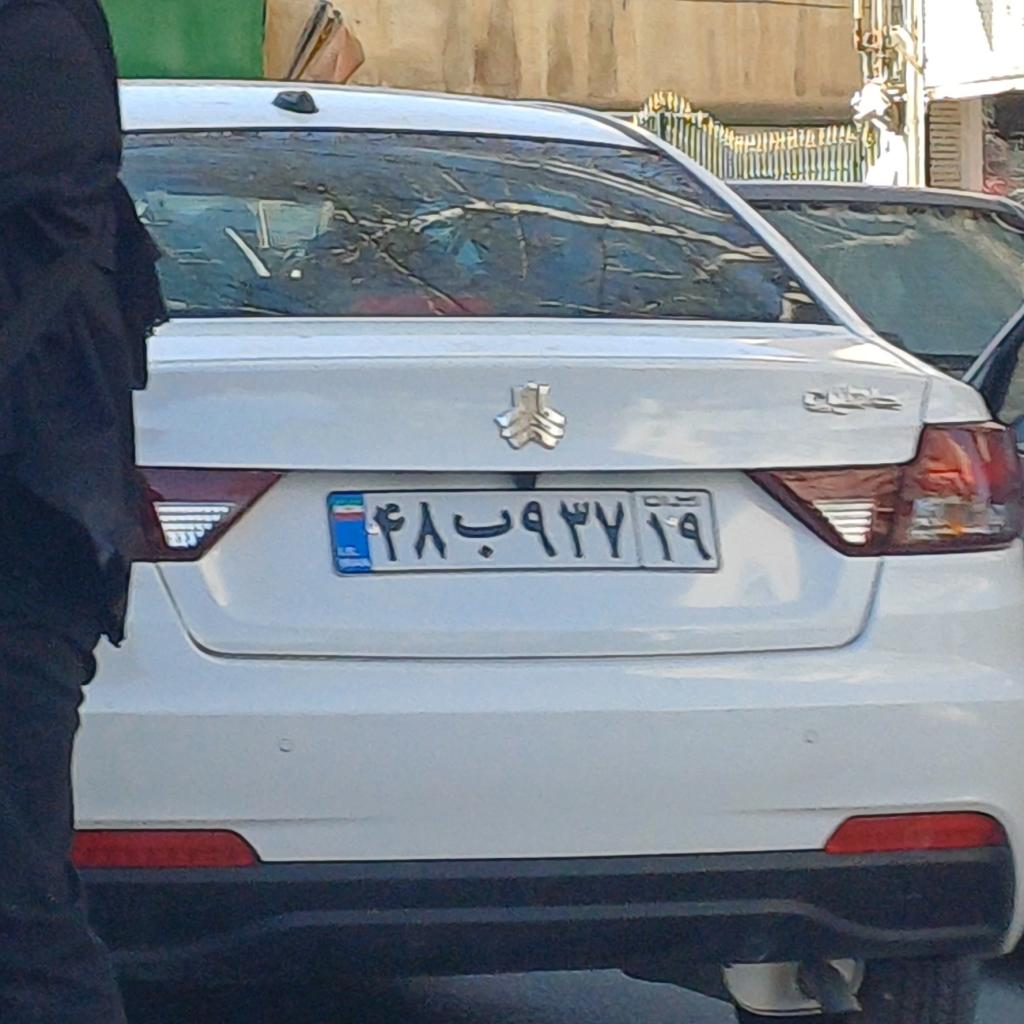Plates: (328, 488, 720, 572)
